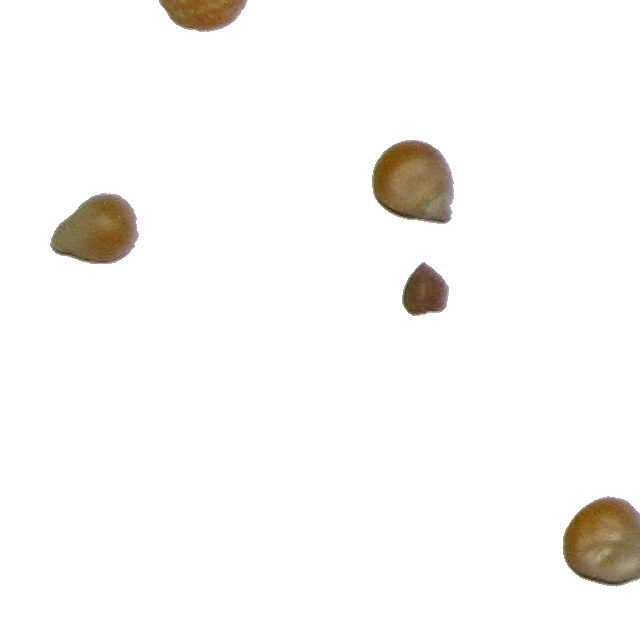buckwheat: (401, 261, 450, 317)
mais: (561, 495, 640, 588), (371, 139, 455, 225), (49, 192, 140, 265)
